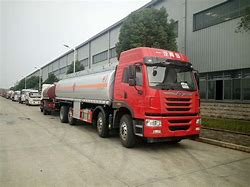oil truck: (47, 44, 204, 146)
